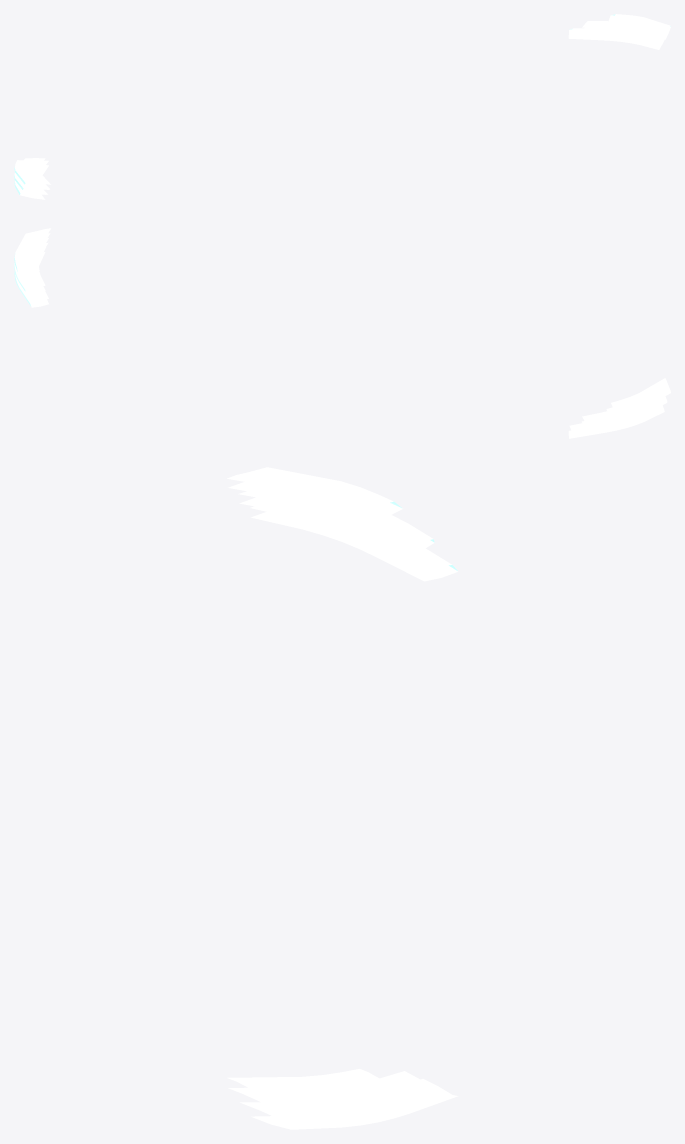
The model's file is glass_stirips.glb.
3 views of the same model, one above another, from view 1: azimuth 30°, elevation 25°; view 2: azimuth 150°, elevation 25°; view 3: azimuth 270°, elevation 25° (orthographic). The views are drawn at different scales.
Parts seen in each view (by area): view 1: glass_stirips; view 2: glass_stirips; view 3: glass_stirips.
Part boxes in pixels (box(x1,y1,x2,y2)): glass_stirips: box(14, 14, 670, 199); glass_stirips: box(14, 228, 670, 438); glass_stirips: box(227, 467, 458, 1129).
Bounding box in the file's own units: 1.07 × 0.0455 × 0.1665.
